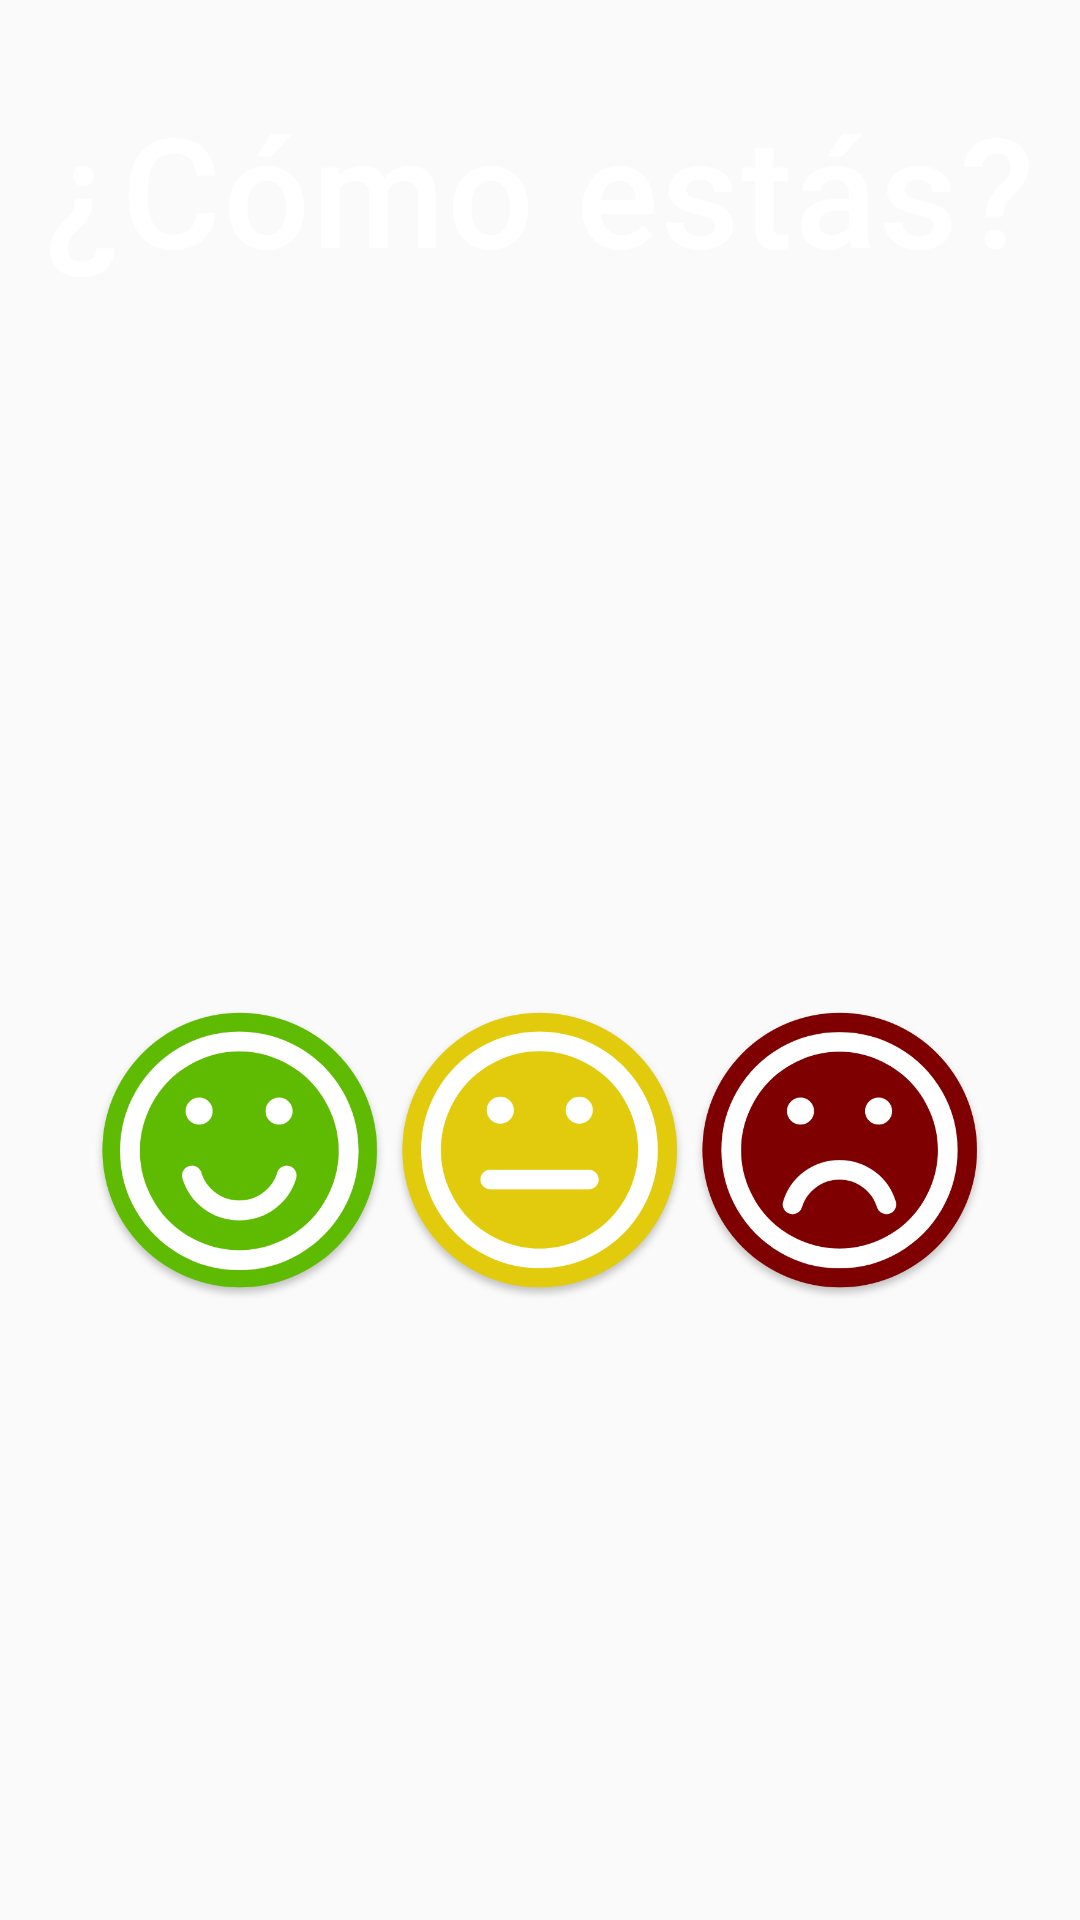

Named icons in this screenshot (1080px×1920px) and their bounding boxes, (x1, y1, x2, y2):
bien: (102, 1012, 378, 1293)
